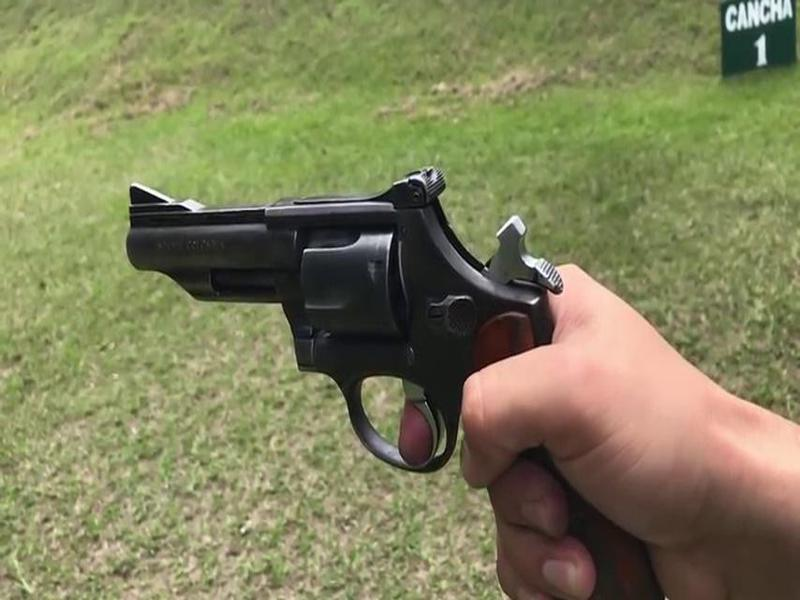Revolver: (91, 147, 648, 566)
